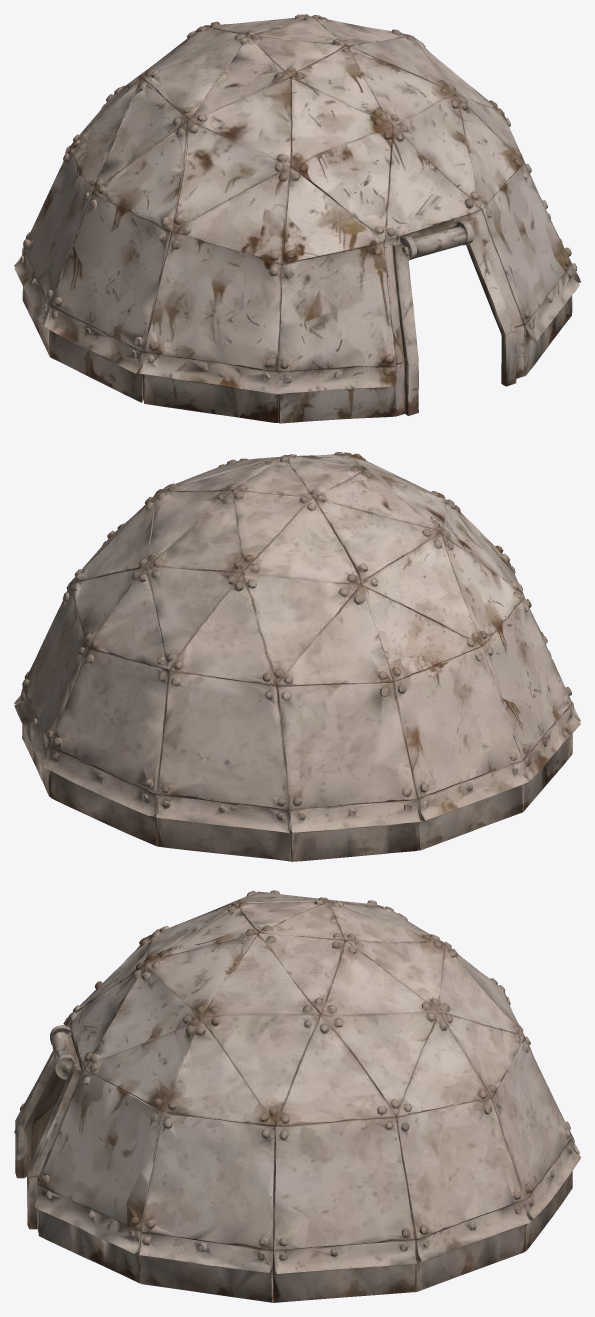
Rendered from tent_greenhouse_idle.glb.
The picture shows the model from 3 angles, top to bottom: view 1: azimuth 30°, elevation 25°; view 2: azimuth 150°, elevation 25°; view 3: azimuth 270°, elevation 25°; orthographic projection.
Parts seen in each view (by area): view 1: tripo_node_8b877218-3d75-499d-95e5-c14dd8b5b938; view 2: tripo_node_8b877218-3d75-499d-95e5-c14dd8b5b938; view 3: tripo_node_8b877218-3d75-499d-95e5-c14dd8b5b938.
Part boxes in pixels (x1,y1,x2,y2): tripo_node_8b877218-3d75-499d-95e5-c14dd8b5b938: (14,14,580,423); tripo_node_8b877218-3d75-499d-95e5-c14dd8b5b938: (14,452,580,861); tripo_node_8b877218-3d75-499d-95e5-c14dd8b5b938: (14,890,580,1302).
Size of the model in its own units: 6 by 3.19 by 5.99.
Materials: 1 (1 with a texture image).
